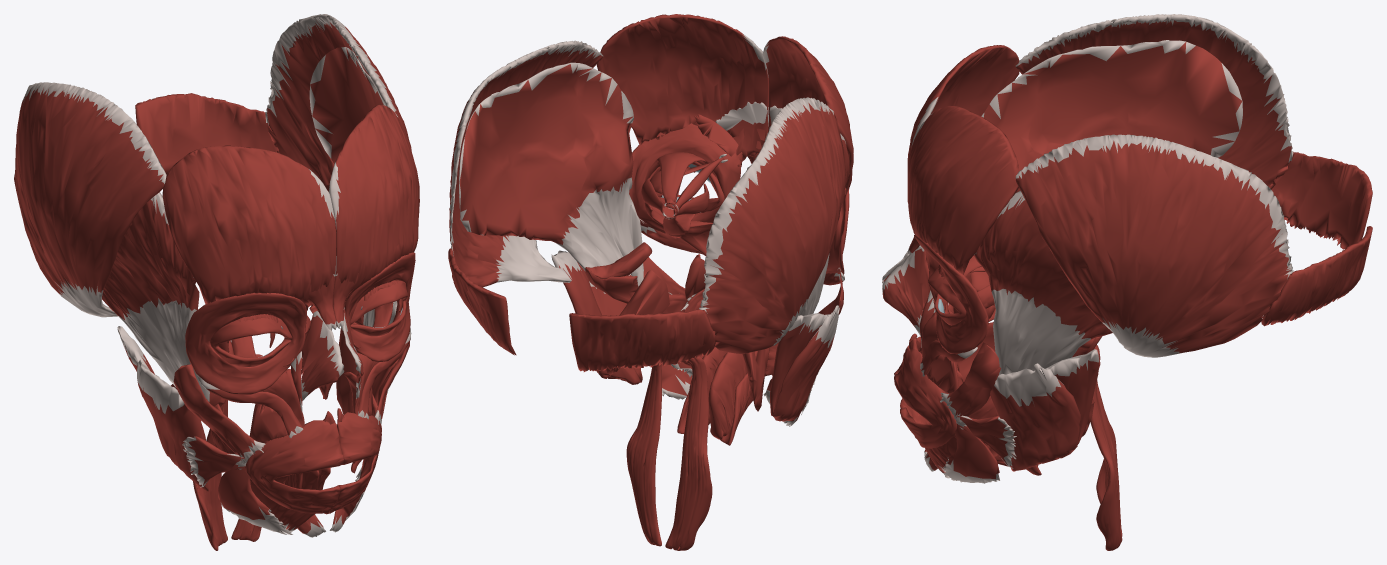
File: muscles-head.glb
3 views of the same model, side by side, from view 1: azimuth 30°, elevation 25°; view 2: azimuth 150°, elevation 25°; view 3: azimuth 270°, elevation 25° (orthographic).
Visible parts, largest first — view 1: muscle-temporoparietalis-muscle-r, muscle-frontalis-muscle-r, muscle-frontalis-muscle-l, muscle-temporalis-muscle-r, muscle-temporoparietalis-muscle-l, muscle-orbital-part-of-orbicularis-oculi-r, muscle-occipitalis-muscle-l, muscle-orbicularis-oris-muscle-r, muscle-temporalis-muscle-l, muscle-superficial-part-of-masseter-r, muscle-orbital-part-of-orbicularis-oculi-l, muscle-orbicularis-oris-muscle-l (+19 smaller); view 2: muscle-temporalis-muscle-l, muscle-temporoparietalis-muscle-r, muscle-frontalis-muscle-l, muscle-temporoparietalis-muscle-l, muscle-occipitalis-muscle-r, muscle-palatopharyngeus-muscle-r, muscle-orbital-part-of-orbicularis-oculi-l, muscle-frontalis-muscle-r, muscle-palatopharyngeus-muscle-l, muscle-superficial-part-of-masseter-r, muscle-occipitalis-muscle-l, muscle-genioglossus-muscle-r (+22 smaller); view 3: muscle-temporoparietalis-muscle-l, muscle-temporalis-muscle-r, muscle-frontalis-muscle-l, muscle-temporalis-muscle-l, muscle-temporoparietalis-muscle-r, muscle-occipitalis-muscle-r, muscle-superficial-part-of-masseter-l, muscle-occipitalis-muscle-l, muscle-frontalis-muscle-r, muscle-orbicularis-oris-muscle-l, muscle-orbital-part-of-orbicularis-oculi-l, muscle-nasalis-muscle-l (+9 smaller).
Part boxes in pixels (x1,y1,x2,y2): muscle-temporoparietalis-muscle-r: [15, 82, 166, 317]; muscle-frontalis-muscle-r: [162, 145, 336, 306]; muscle-frontalis-muscle-l: [328, 105, 419, 297]; muscle-temporalis-muscle-r: [102, 192, 209, 401]; muscle-temporoparietalis-muscle-l: [265, 14, 411, 191]; muscle-orbital-part-of-orbicularis-oculi-r: [185, 292, 306, 394]; muscle-occipitalis-muscle-l: [135, 93, 278, 174]; muscle-orbicularis-oris-muscle-r: [245, 420, 343, 514]; muscle-temporalis-muscle-l: [309, 47, 384, 326]; muscle-superficial-part-of-masseter-r: [137, 359, 208, 491]; muscle-orbital-part-of-orbicularis-oculi-l: [344, 252, 415, 361]; muscle-orbicularis-oris-muscle-l: [328, 412, 381, 513]; muscle-temporalis-muscle-l: [459, 62, 643, 293]; muscle-temporoparietalis-muscle-r: [699, 97, 845, 353]; muscle-frontalis-muscle-l: [596, 14, 768, 161]; muscle-temporoparietalis-muscle-l: [449, 40, 603, 287]; muscle-occipitalis-muscle-r: [569, 309, 715, 371]; muscle-palatopharyngeus-muscle-r: [665, 357, 712, 550]; muscle-orbital-part-of-orbicularis-oculi-l: [629, 123, 740, 236]; muscle-frontalis-muscle-r: [762, 36, 853, 195]; muscle-palatopharyngeus-muscle-l: [626, 363, 661, 546]; muscle-superficial-part-of-masseter-r: [772, 305, 839, 421]; muscle-occipitalis-muscle-l: [448, 248, 516, 355]; muscle-genioglossus-muscle-r: [708, 351, 754, 439]; muscle-temporoparietalis-muscle-l: [1015, 134, 1293, 357]; muscle-temporalis-muscle-r: [981, 40, 1242, 192]; muscle-frontalis-muscle-l: [907, 105, 1019, 274]; muscle-temporalis-muscle-l: [973, 190, 1112, 374]; muscle-temporoparietalis-muscle-r: [1015, 14, 1293, 189]; muscle-occipitalis-muscle-r: [1271, 152, 1372, 249]; muscle-superficial-part-of-masseter-l: [990, 363, 1080, 471]; muscle-occipitalis-muscle-l: [1261, 226, 1372, 326]; muscle-frontalis-muscle-r: [907, 45, 1019, 172]; muscle-orbicularis-oris-muscle-l: [894, 347, 956, 448]; muscle-orbital-part-of-orbicularis-oculi-l: [914, 234, 988, 354]; muscle-nasalis-muscle-l: [882, 245, 930, 335].
Size of the model in its own units: 0.1608 by 0.2146 by 0.2048.
